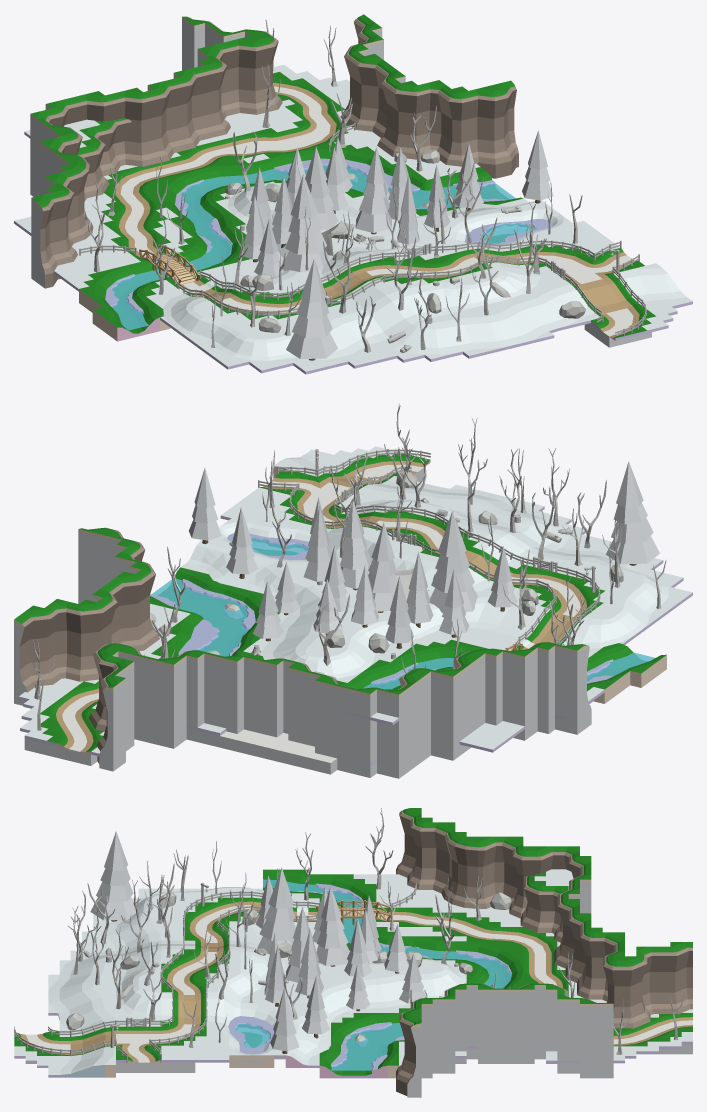
Rendered from Winter_v2.glb.
3 views of the same model, one above another, from view 1: azimuth 30°, elevation 25°; view 2: azimuth 150°, elevation 25°; view 3: azimuth 270°, elevation 25° (orthographic). The views are drawn at different scales.
Parts seen in each view (by area): view 1: Path_Terrain_Dirt_Flat_1x1__Snow Dirt__1__0__6, Grass_Hill_Grade_Transition_Curve_Outer_4x5__Snow Grass__0__ (×2), Grass_Hill_Gentle_Esse_4x5__Snow Grass__2__1__1, Grass_Flat_1x1__Snow Grass__2__0__79, Grass_Hill_Gentle_Overlapping_Gentle_4x4__Snow Grass__0__0__, Grass_Hill_Gentle_Esse_4x5__Snow Grass__2__1__2, Grass_Hill_Gentle_Esse_4x5__Snow Grass__2__0__3, Grass_Hill_Gentle_Curve_Outer_4x4__Snow Grass__0__0__2, Grass_Hill_Sharp_Curve_Outer_4x4__Snow Grass__2__0__2, Grass_Hill_Grade_Transition_Straight_Front_4x4__Snow Grass__, Grass_Hill_Sharp_Curve_Inner_6x6__Grass__0__0__3, Grass_Flat_1x1__Snow Grass__2__0__58 (+49 smaller); view 2: Grass_Hill_Grade_Transition_Curve_Inner_6x7__Snow Grass__2__ (×2), Grass_Hill_Grade_Transition_Curve_Outer_4x5__Snow Grass__0__ (×2), Path_Terrain_Dirt_Flat_1x1__Hidden__0__0__6, Grass_Hill_Sharp_Curve_Inner_6x6__Grass__0__0__4, Path_Terrain_Dirt_Flat_1x1__Snow Dirt__1__0__6, Basic_Curve_Inner_2x2_Wide_Base__Hidden__1__1__2, Basic_Curve_Inner_2x2_Narrow_Base__Hidden__1__1__1, Basic_Esse_Base_2x2__Hidden__1__0__5, Basic_Curve_Inner_2x2_Wide_Base__Hidden__1__1__1, Grass_Hill_Grade_Transition_Straight_Front_4x4__Snow Grass__, Grass_Hill_Sharp_Curve_Outer_4x4__Snow Grass__2__0__1, Grass_Flat_1x1__Snow Grass__2__0__73 (+49 smaller); view 3: Grass_Hill_Grade_Transition_Curve_Outer_4x5__Snow Grass__0__ (×2), Grass_Flat_1x1__Snow Grass__2__0__79, Grass_Hill_Sharp_Curve_Inner_6x6__Grass__0__0__5, Grass_Hill_Grade_Transition_Curve_Inner_6x7__Snow Grass__2__, Grass_Hill_Sharp_Curve_Inner_6x6__Grass__0__0__1, Grass_Hill_Grade_Transition_Straight_Rear_3x4__Snow Grass__2 (×2), Grass_Hill_Sharp_Curve_Inner_6x6__Grass__0__0__3, Grass_Hill_Gentle_Esse_4x5__Snow Grass__2__0__3, Grass_Hill_Gentle_Esse_4x5__Snow Grass__2__0__4, Grass_Hill_Gentle_Esse_4x5__Snow Grass__2__0__2, Path_Terrain_Dirt_Flat_1x1__Snow Dirt__1__0__4, Grass_Hill_Gentle_Esse_4x5__Snow Grass__2__1__2 (+49 smaller).
Boxes of the visible parts, x1,y1,x2,y2 form: Path_Terrain_Dirt_Flat_1x1__Snow Dirt__1__0__6: [121, 101, 330, 191]; Grass_Hill_Grade_Transition_Curve_Outer_4x5__Snow Grass__0__ (×2): [163, 266, 540, 325]; Grass_Hill_Gentle_Esse_4x5__Snow Grass__2__1__1: [438, 312, 511, 351]; Grass_Flat_1x1__Snow Grass__2__0__79: [14, 216, 140, 274]; Grass_Hill_Gentle_Overlapping_Gentle_4x4__Snow Grass__0__0__: [354, 291, 419, 341]; Grass_Hill_Gentle_Esse_4x5__Snow Grass__2__1__2: [614, 263, 686, 302]; Grass_Hill_Gentle_Esse_4x5__Snow Grass__2__0__3: [492, 299, 558, 342]; Grass_Hill_Gentle_Curve_Outer_4x4__Snow Grass__0__0__2: [379, 318, 462, 354]; Grass_Hill_Sharp_Curve_Outer_4x4__Snow Grass__2__0__2: [220, 332, 286, 360]; Grass_Hill_Grade_Transition_Straight_Front_4x4__Snow Grass__: [418, 278, 483, 314]; Grass_Hill_Sharp_Curve_Inner_6x6__Grass__0__0__3: [79, 264, 141, 312]; Grass_Flat_1x1__Snow Grass__2__0__58: [197, 106, 302, 145]; Grass_Hill_Grade_Transition_Curve_Inner_6x7__Snow Grass__2__ (×2): [274, 576, 511, 633]; Grass_Hill_Grade_Transition_Curve_Outer_4x5__Snow Grass__0__ (×2): [261, 612, 634, 663]; Path_Terrain_Dirt_Flat_1x1__Hidden__0__0__6: [186, 728, 337, 774]; Grass_Hill_Sharp_Curve_Inner_6x6__Grass__0__0__4: [391, 639, 488, 669]; Path_Terrain_Dirt_Flat_1x1__Snow Dirt__1__0__6: [76, 693, 336, 762]; Basic_Curve_Inner_2x2_Wide_Base__Hidden__1__1__2: [151, 705, 186, 748]; Basic_Curve_Inner_2x2_Narrow_Base__Hidden__1__1__1: [377, 735, 411, 778]; Basic_Esse_Base_2x2__Hidden__1__0__5: [555, 693, 591, 734]; Basic_Curve_Inner_2x2_Wide_Base__Hidden__1__1__1: [431, 717, 465, 760]; Grass_Hill_Grade_Transition_Straight_Front_4x4__Snow Grass__: [229, 555, 292, 596]; Grass_Hill_Sharp_Curve_Outer_4x4__Snow Grass__2__0__1: [304, 649, 365, 678]; Grass_Flat_1x1__Snow Grass__2__0__73: [221, 497, 289, 526]; Grass_Hill_Grade_Transition_Curve_Outer_4x5__Snow Grass__0__ (×2): [116, 969, 466, 1020]; Grass_Flat_1x1__Snow Grass__2__0__79: [376, 884, 491, 907]; Grass_Hill_Sharp_Curve_Inner_6x6__Grass__0__0__5: [455, 941, 523, 979]; Grass_Hill_Grade_Transition_Curve_Inner_6x7__Snow Grass__2__: [308, 978, 376, 1022]; Grass_Hill_Sharp_Curve_Inner_6x6__Grass__0__0__1: [331, 1013, 398, 1050]; Grass_Hill_Grade_Transition_Straight_Rear_3x4__Snow Grass__2 (×2): [240, 954, 330, 1060]; Grass_Hill_Sharp_Curve_Inner_6x6__Grass__0__0__3: [308, 874, 376, 906]; Grass_Hill_Gentle_Esse_4x5__Snow Grass__2__0__3: [48, 988, 104, 1017]; Grass_Hill_Gentle_Esse_4x5__Snow Grass__2__0__4: [106, 921, 161, 950]; Grass_Hill_Gentle_Esse_4x5__Snow Grass__2__0__2: [376, 974, 421, 1008]; Path_Terrain_Dirt_Flat_1x1__Snow Dirt__1__0__4: [116, 1024, 194, 1062]; Grass_Hill_Gentle_Esse_4x5__Snow Grass__2__1__2: [59, 1046, 115, 1074].
Size of the model in its own units: 45 by 11.02 by 60.02.
